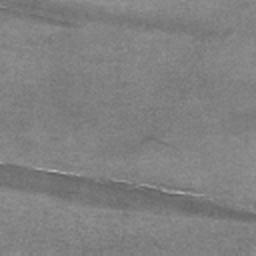Finishing roll printing: (0, 163, 256, 227), (0, 4, 86, 28)
